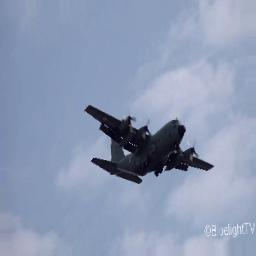Airplane: (83, 103, 216, 185)
